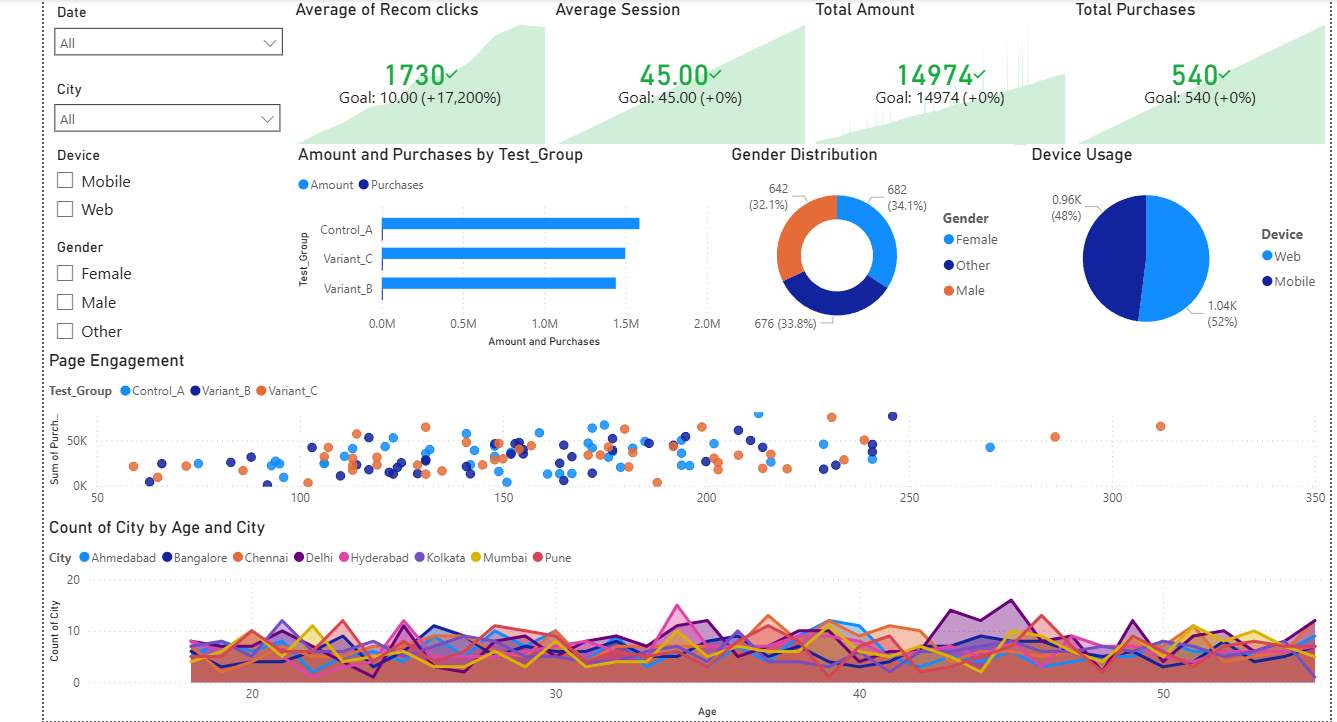

Layout of this report page (visuals, bound fields, positions):
{"tool":"powerbi","page":{"name":"Page 1","canvas":[1280,720],"ordinal":0},"visuals":[{"type":"kpi","title":"Average  Session","fields":{"Indicator":["Avg(ab_test_clean.Session_Duration_Min)"],"TrendLine":["ab_test_clean.Session_Duration_Min"],"Goal":["Avg(ab_test_clean.Session_Duration_Min)"]},"box":[503.8,0,258.7,150.5],"z":0},{"type":"kpi","title":"Total Amount","fields":{"TrendLine":["ab_test_clean.Purchase_Amount_INR"],"Indicator":["Sum(ab_test_clean.Purchase_Amount_INR)"],"Goal":["Sum(ab_test_clean.Purchase_Amount_INR)"]},"box":[762.5,0,258.7,150.5],"z":1000},{"type":"slicer","fields":{"Values":["ab_test_clean.Date"]},"box":[0,0,247.5,90.8],"z":2000},{"type":"kpi","title":"Average of Recom clicks","fields":{"Indicator":["Sum(ab_test_clean.Recommendation_Clicks)"],"TrendLine":["ab_test_clean.Recommendation_Clicks"],"Goal":["Avg(ab_test_clean.Recommendation_Clicks)"]},"box":[245.1,0,258.7,150.5],"z":3000},{"type":"kpi","title":"Total Purchases","fields":{"Goal":["Sum(ab_test_clean.Purchase_Made)"],"Indicator":["Sum(ab_test_clean.Purchase_Made)"],"TrendLine":["ab_test_clean.Purchase_Made"]},"box":[1021.3,0,258.7,150.5],"z":4000},{"type":"areaChart","fields":{"Y":["CountNonNull(ab_test_clean.City)"],"Category":["ab_test_clean.Age"],"Series":["ab_test_clean.City"]},"box":[0,515,1280,205],"z":5000},{"type":"pieChart","title":"Device Usage","fields":{"Category":["ab_test_clean.Device"],"Y":["CountNonNull(ab_test_clean.User_ID)"]},"box":[977.5,143.8,302.5,207.5],"z":6000},{"type":"donutChart","title":"Gender Distribution","fields":{"Category":["ab_test_clean.Gender"],"Y":["CountNonNull(ab_test_clean.User_ID)"]},"box":[678.8,143.8,286.2,201.2],"z":7000},{"type":"slicer","fields":{"Values":["ab_test_clean.City"]},"box":[0,75.9,245.1,59.7],"z":8000},{"type":"slicer","fields":{"Values":["ab_test_clean.Device"]},"box":[0,141.8,245.1,94.5],"z":9000},{"type":"slicer","fields":{"Values":["ab_test_clean.Gender"]},"box":[0,233.9,245.1,116.9],"z":10000},{"type":"clusteredBarChart","fields":{"Category":["ab_test_clean.Test_Group"],"Y":["Sum(ab_test_clean.Purchase_Amount_INR)","Sum(ab_test_clean.Purchase_Made)"]},"box":[247.5,143.8,431.2,207.5],"z":11000},{"type":"scatterChart","title":"Page Engagement","fields":{"X":["Sum(ab_test_clean.Pages_Viewed)"],"Y":["Sum(ab_test_clean.Purchase_Amount_INR)"],"Series":["ab_test_clean.Test_Group"],"Category":["ab_test_clean.Session_Duration_Min"]},"box":[0,350,1280,165],"z":12000}]}

Visuals, with their boxes on the page's 1280x720 design canvas (x1, y1, x2, y2). These are canvas units, not pixel positions in the 1337x722 screenshot, which may show the page scaled, cropped or inside an application window:
"Average  Session" kpi: (504, 0, 762, 150)
"Total Amount" kpi: (762, 0, 1021, 150)
slicer - ab_test_clean.Date: (0, 0, 248, 91)
"Average of Recom clicks" kpi: (245, 0, 504, 150)
"Total Purchases" kpi: (1021, 0, 1280, 150)
areaChart - CountNonNull(ab_test_clean.City) x ab_test_clean.Age: (0, 515, 1280, 720)
"Device Usage" pieChart: (978, 144, 1280, 351)
"Gender Distribution" donutChart: (679, 144, 965, 345)
slicer - ab_test_clean.City: (0, 76, 245, 136)
slicer - ab_test_clean.Device: (0, 142, 245, 236)
slicer - ab_test_clean.Gender: (0, 234, 245, 351)
clusteredBarChart - ab_test_clean.Test_Group x Sum(ab_test_clean.Purchase_Amount_INR): (248, 144, 679, 351)
"Page Engagement" scatterChart: (0, 350, 1280, 515)
